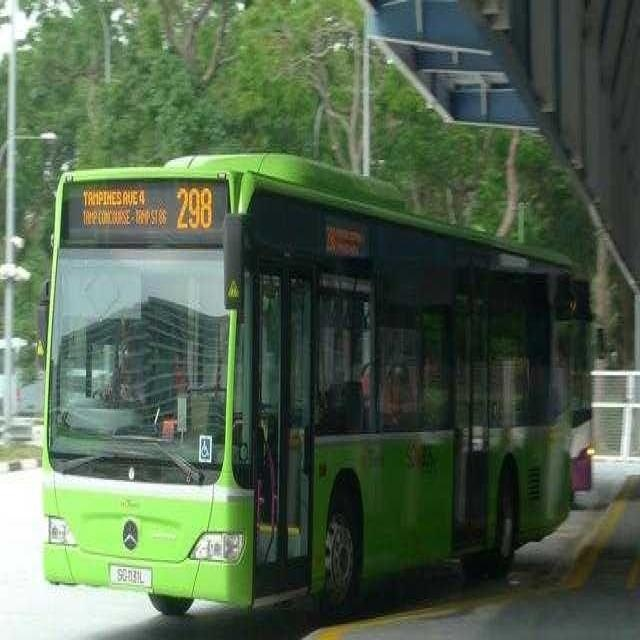Bus: (33, 131, 585, 640)
